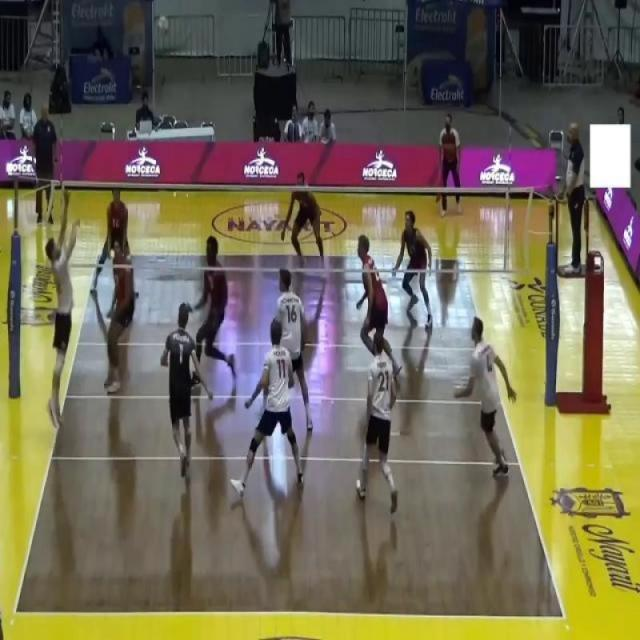volleyball: (156, 15, 170, 38)
